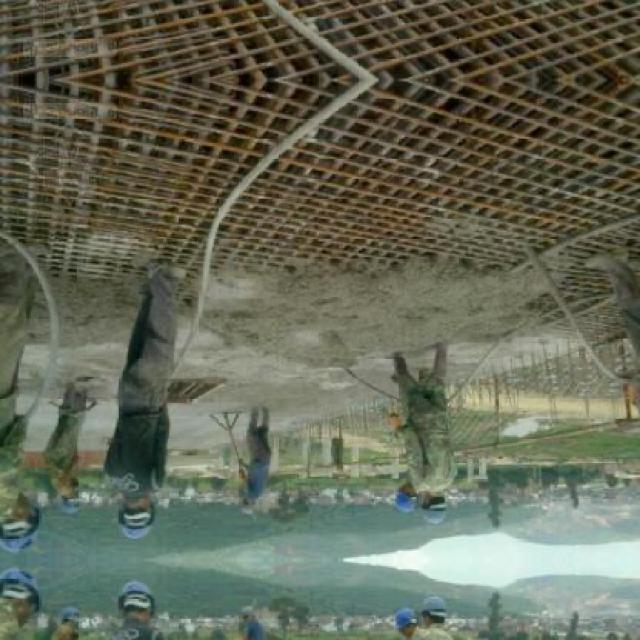con casco: (74, 487, 170, 545), (397, 471, 455, 534), (0, 505, 43, 543)
